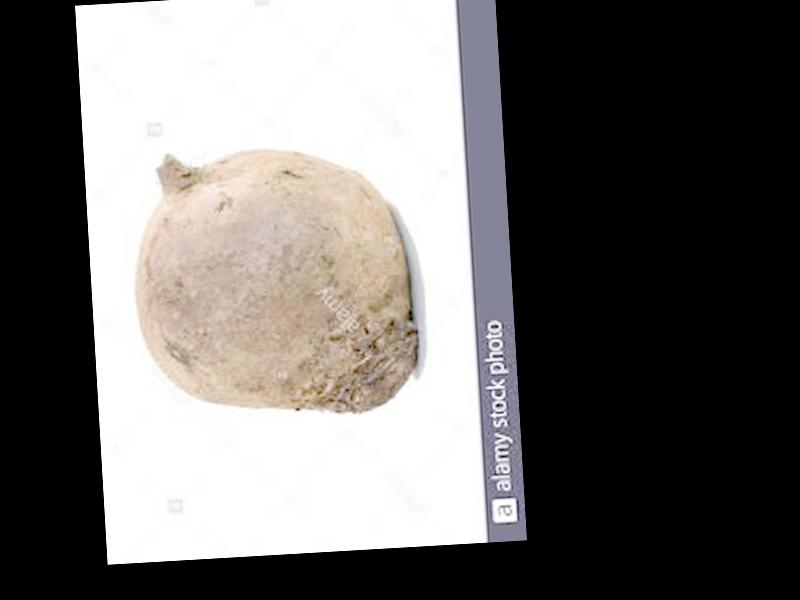Beet: (127, 139, 420, 423)
